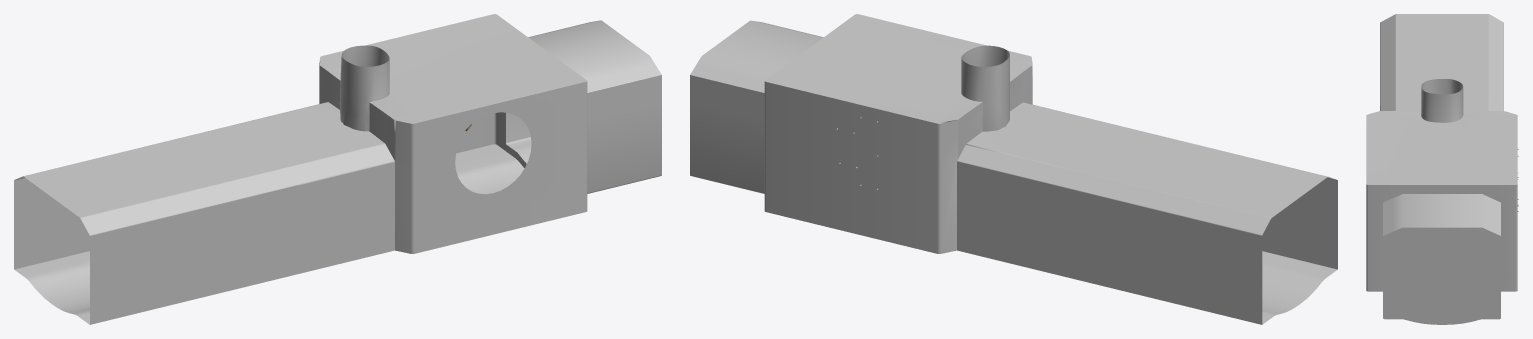
The model's file is ZatopUV3.fbx.
3 renders of one model, left to right at view 1: azimuth 30°, elevation 25°; view 2: azimuth 150°, elevation 25°; view 3: azimuth 270°, elevation 25°, orthographic. The views are drawn at different scales.
Parts seen in each view (by area): view 1: Cube.002, Cube.000, Cube.004, Cube.003, Cube.005, Cube.001; view 2: Cube.002, Cube.000, Cube.004, Cube.003, Cube.001, Cube.005; view 3: Cube.002, Cube.000, Cube.004, Cube.003, Cube.001, Cube.005.
Part boxes in pixels (left/top/right/bottom): Cube.002: left=319, top=14, right=661, bottom=253; Cube.000: left=14, top=152, right=188, bottom=324; Cube.004: left=128, top=127, right=292, bottom=299; Cube.003: left=232, top=102, right=394, bottom=273; Cube.005: left=226, top=125, right=298, bottom=275; Cube.001: left=122, top=151, right=193, bottom=300; Cube.002: left=690, top=14, right=1032, bottom=253; Cube.000: left=1163, top=152, right=1337, bottom=324; Cube.004: left=1059, top=127, right=1223, bottom=299; Cube.003: left=957, top=102, right=1119, bottom=273; Cube.001: left=1157, top=151, right=1228, bottom=300; Cube.005: left=1054, top=126, right=1124, bottom=275; Cube.002: left=1366, top=79, right=1517, bottom=324; Cube.000: left=1380, top=14, right=1503, bottom=61; Cube.004: left=1380, top=55, right=1503, bottom=103; Cube.003: left=1380, top=97, right=1503, bottom=111; Cube.001: left=1380, top=53, right=1503, bottom=64; Cube.005: left=1380, top=95, right=1503, bottom=105.
Bounding box in the file's own units: 1805 × 515 × 507.
